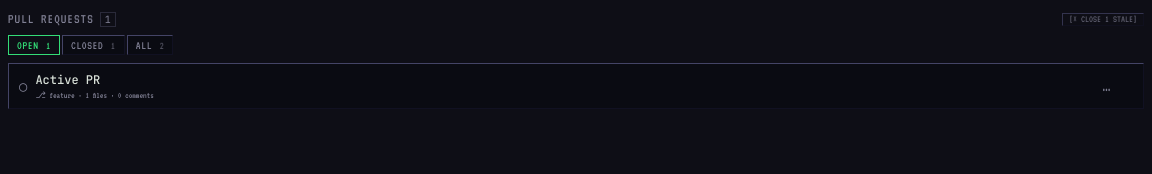
Test case: PRList component › all tab shows every PR
Click the button "ALL 2": (150, 45) [127,35,173,55]
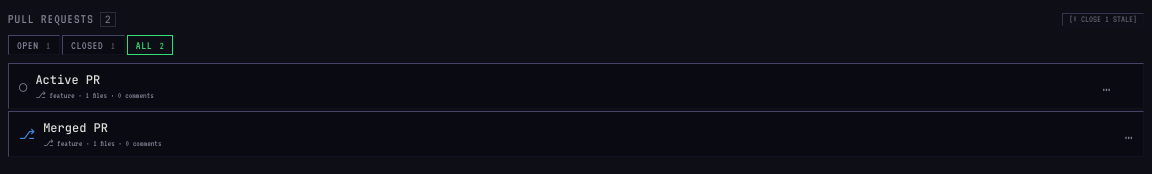
Expected: the text "Active PR" is shown, [35,72,100,88]
Expected: the text "Merged PR" is shown, [43,120,108,136]
